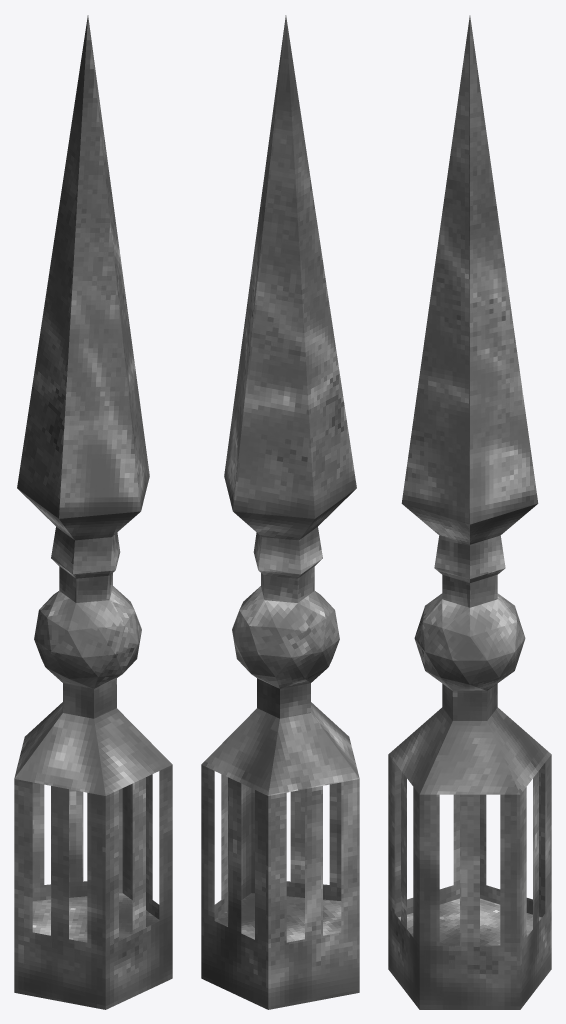
File: lamp1.fbx
The picture shows the model from 3 angles, left to right: view 1: azimuth 30°, elevation 25°; view 2: azimuth 150°, elevation 25°; view 3: azimuth 270°, elevation 25°; orthographic projection.
Parts seen in each view (by area): view 1: Icosphere; view 2: Icosphere; view 3: Icosphere.
Part boxes in pixels (left/top/right/bottom): Icosphere: left=14, top=15, right=172, bottom=1009; Icosphere: left=201, top=15, right=359, bottom=1009; Icosphere: left=388, top=15, right=551, bottom=1009.
Bounding box in the file's own units: 284 × 1922 × 294.
